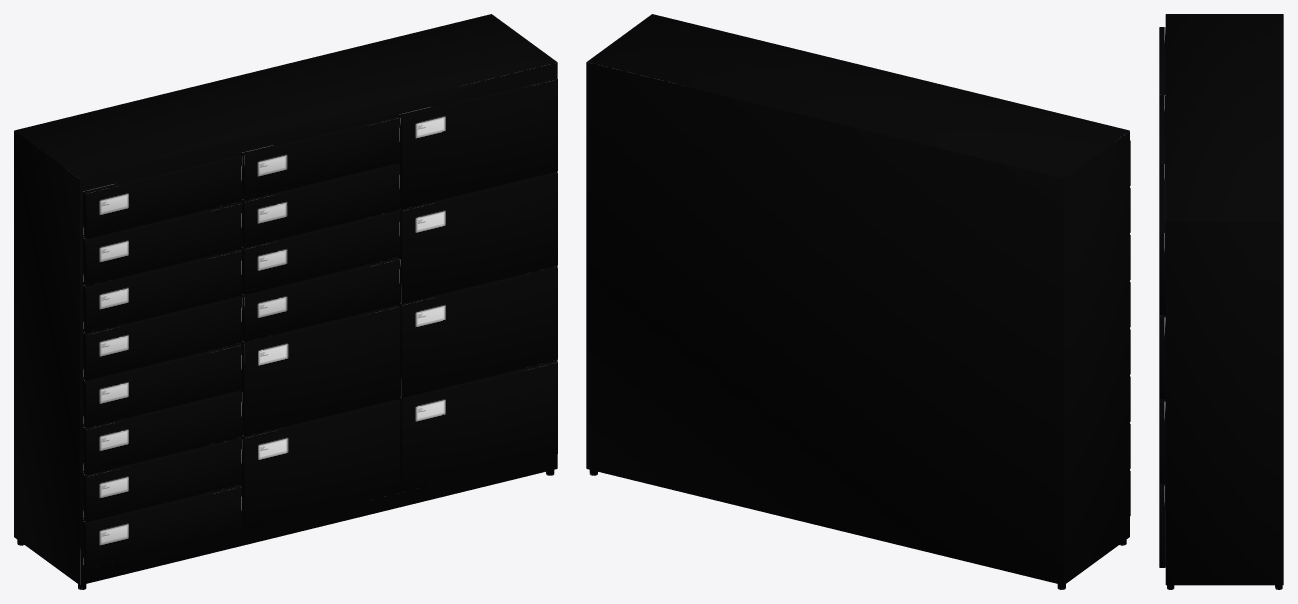
The model's file is office_box.glb.
The picture shows the model from 3 angles, left to right: view 1: azimuth 30°, elevation 25°; view 2: azimuth 150°, elevation 25°; view 3: azimuth 270°, elevation 25°; orthographic projection. The views are drawn at different scales.
Parts seen in each view (by area): view 1: oficina_armario_Cube.161; view 2: oficina_armario_Cube.161; view 3: oficina_armario_Cube.161.
Boxes of the visible parts, x1=… form: oficina_armario_Cube.161: x1=14, y1=14, x2=557, y2=589; oficina_armario_Cube.161: x1=586, y1=14, x2=1130, y2=589; oficina_armario_Cube.161: x1=1159, y1=14, x2=1283, y2=589.
Bounding box in the file's own units: 2.12 × 1.75 × 0.535.
3 materials, 3 textured.
